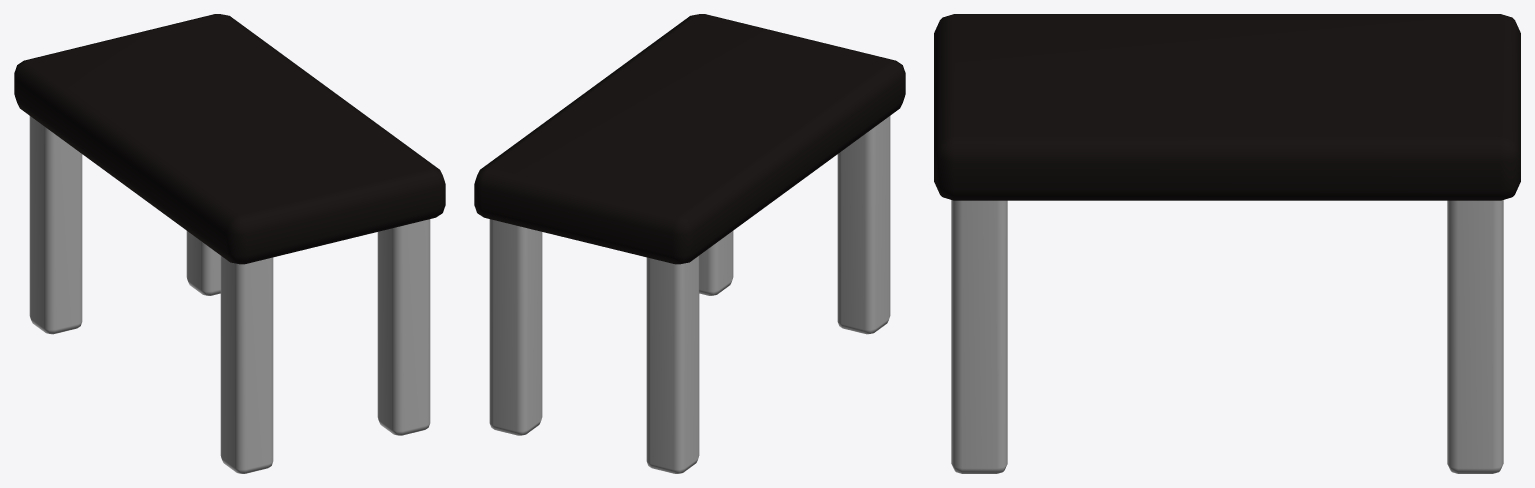
The model's file is footstool_02_black.fbx.
3 views of the same model, side by side, from view 1: azimuth 30°, elevation 25°; view 2: azimuth 150°, elevation 25°; view 3: azimuth 270°, elevation 25° (orthographic). The views are drawn at different scales.
Parts seen in each view (by area): view 1: footstool_02_black; view 2: footstool_02_black; view 3: footstool_02_black.
Part boxes in pixels (bbox=[...]): footstool_02_black: bbox=[14, 14, 445, 473]; footstool_02_black: bbox=[474, 14, 905, 473]; footstool_02_black: bbox=[934, 14, 1520, 473].
Bounding box in the file's own units: 40.47 × 46.73 × 72.77.
2 materials, 2 textured.
